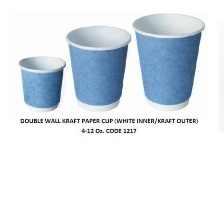paper_cup: (128, 7, 207, 115), (62, 20, 133, 116), (15, 50, 68, 115)
